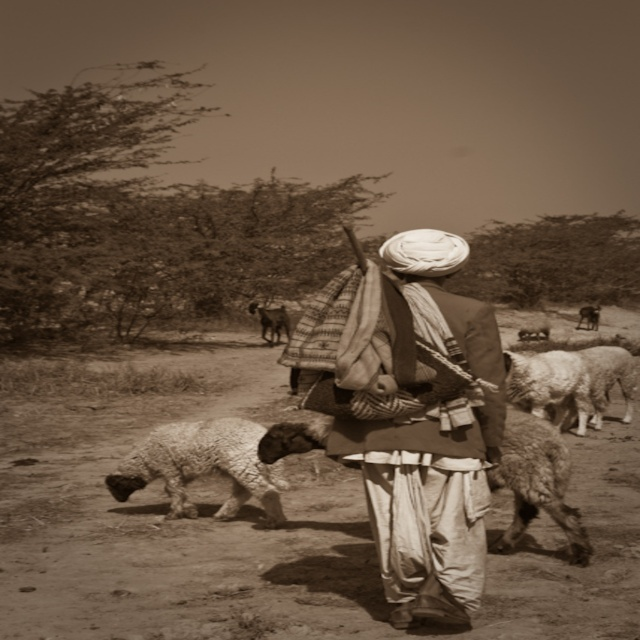Sheep: (105, 302, 640, 629)
